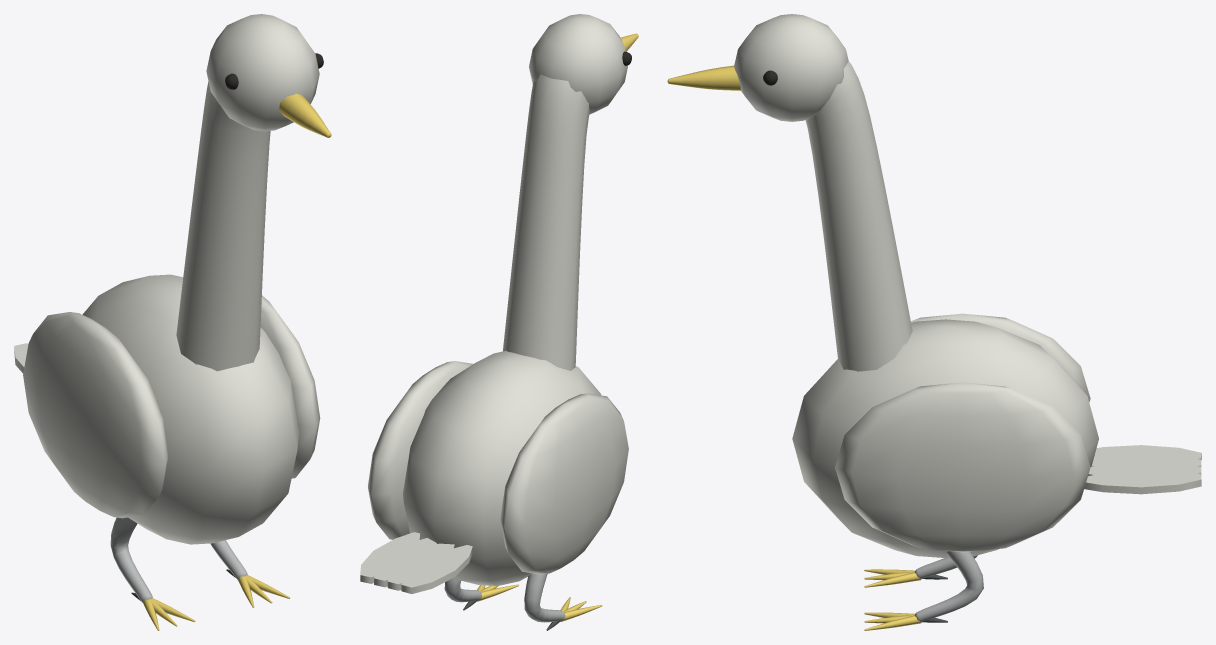
The model's file is birds-and-flying-creatures-mute-swan-fd334931__20585.glb.
The picture shows the model from 3 angles, left to right: view 1: azimuth 30°, elevation 25°; view 2: azimuth 150°, elevation 25°; view 3: azimuth 270°, elevation 25°; orthographic projection. The views are drawn at different scales.
Parts seen in each view (by area): view 1: mute-swan; view 2: mute-swan; view 3: mute-swan.
Boxes of the visible parts, x1=… form: mute-swan: x1=14, y1=14, x2=331, y2=630; mute-swan: x1=360, y1=14, x2=638, y2=630; mute-swan: x1=667, y1=14, x2=1201, y2=630.
Bounding box in the file's own units: 0.5479 × 1.58 × 1.32.
